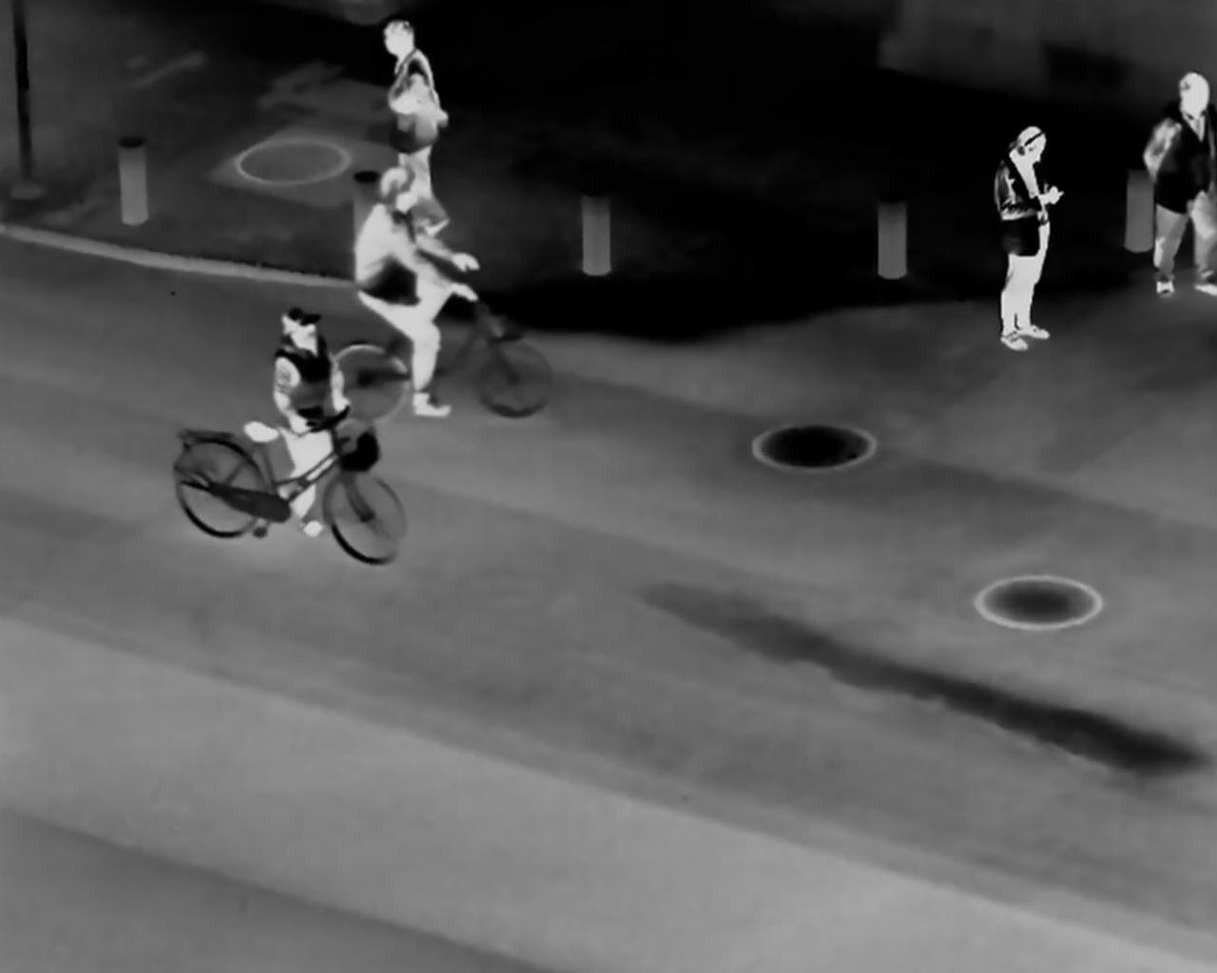person: (357, 166, 471, 425), (262, 308, 360, 544), (981, 122, 1080, 354), (377, 20, 471, 207), (1147, 66, 1217, 313)
